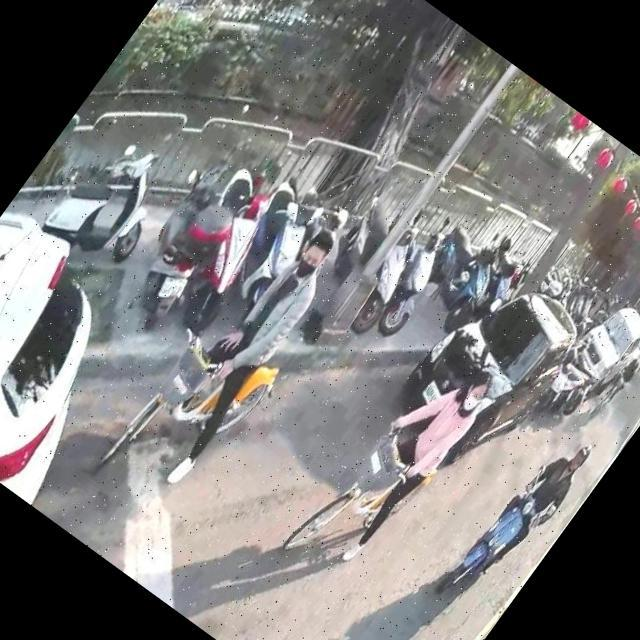person: (128, 206, 359, 492), (302, 335, 508, 581), (462, 422, 602, 590), (597, 343, 640, 408)
